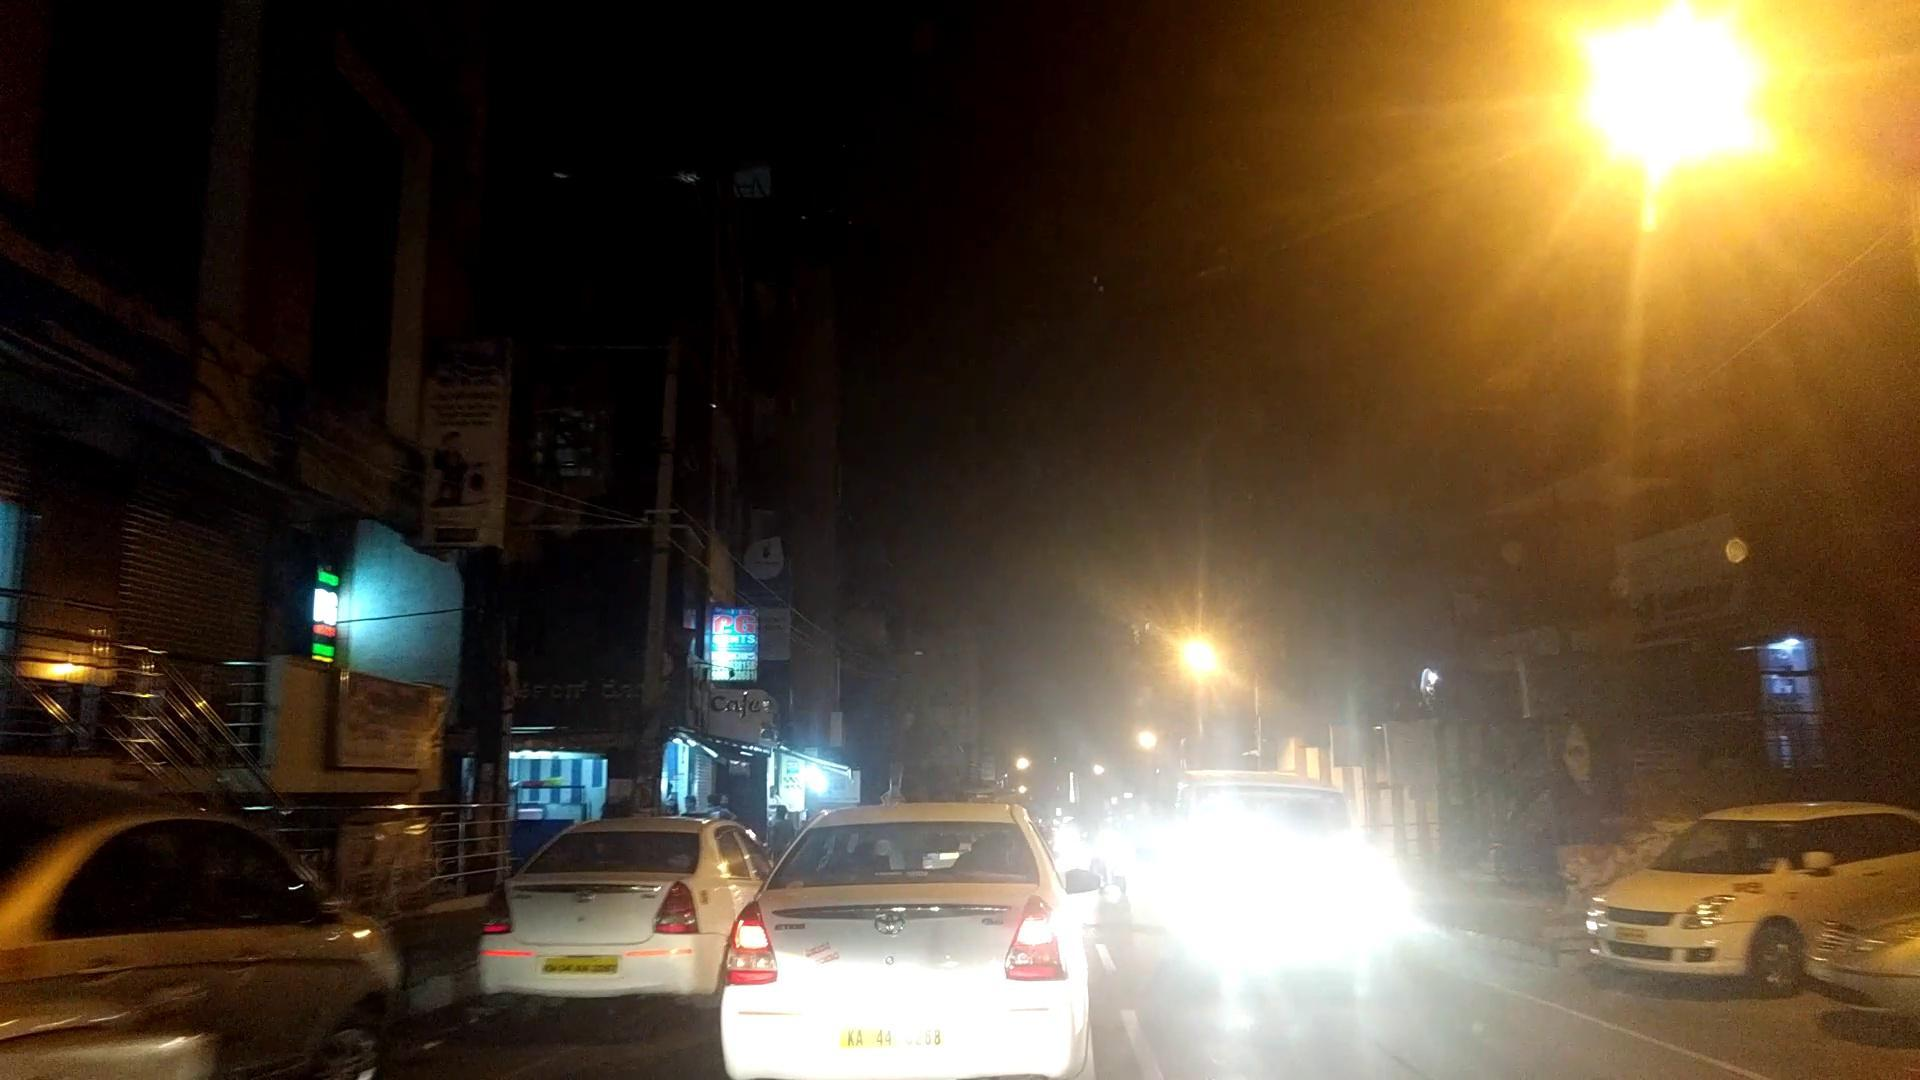on: (1370, 0, 1846, 331)
